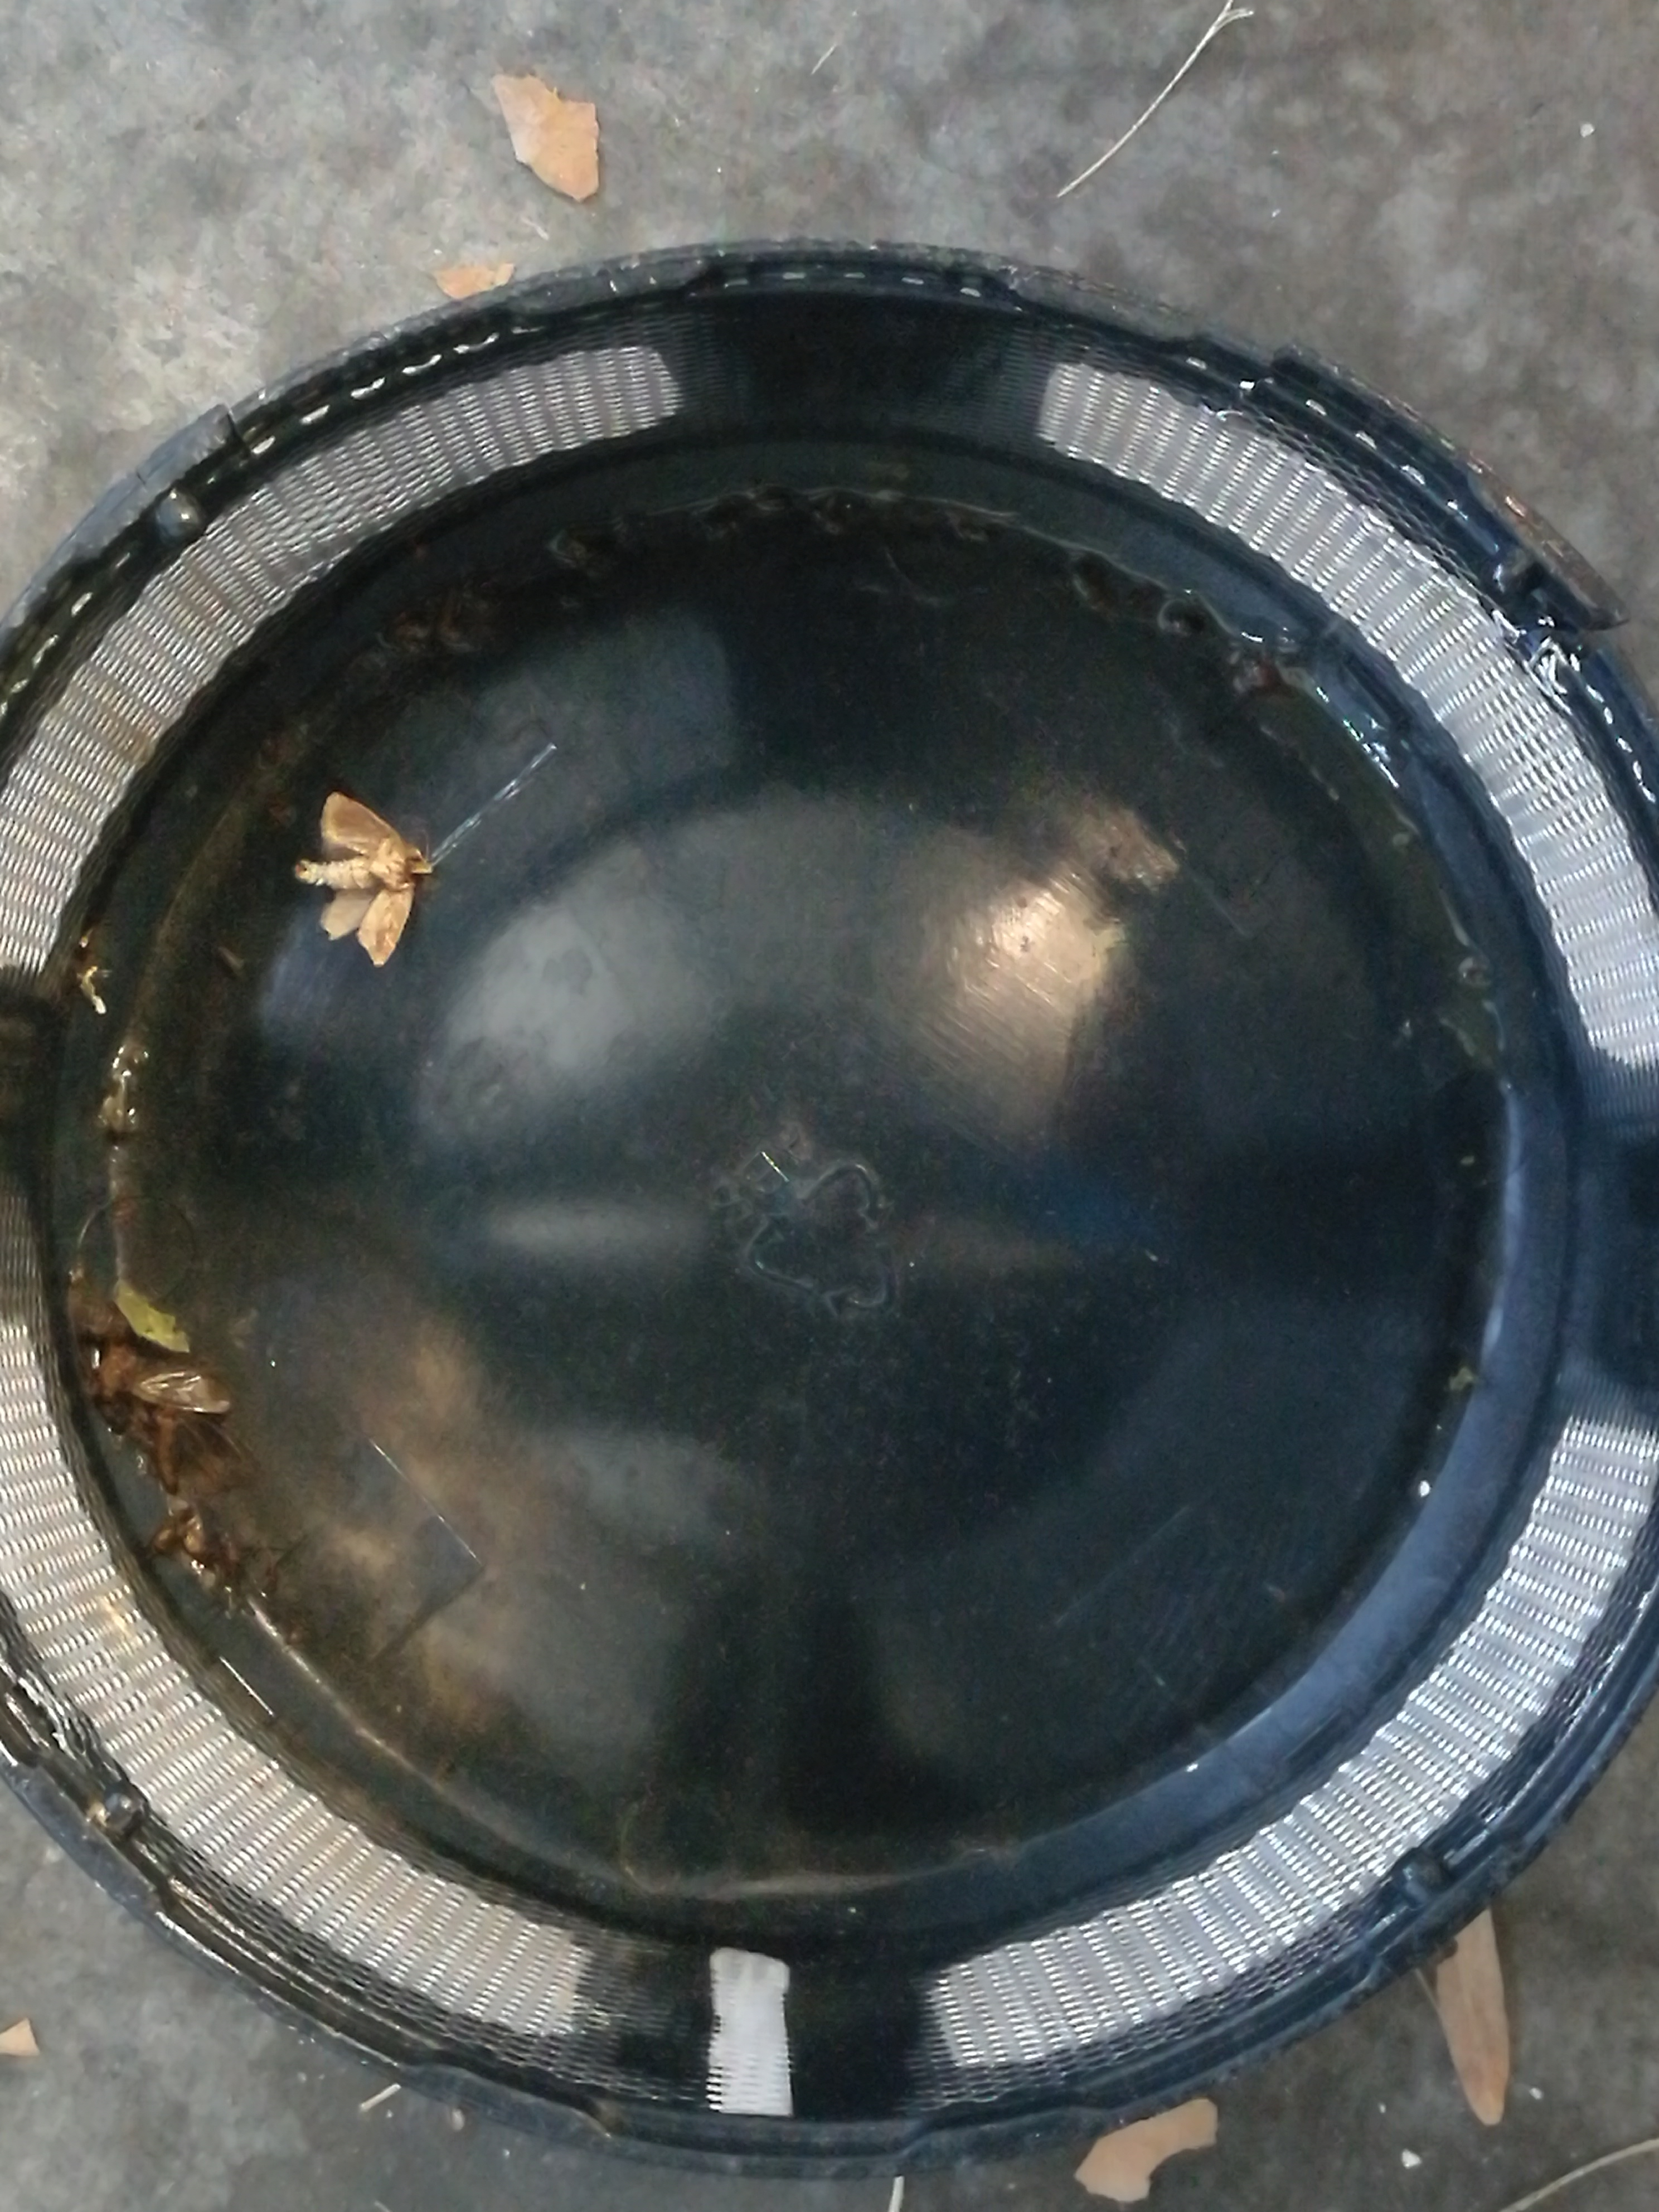moth: (296, 792, 432, 967), (131, 1409, 240, 1494)
